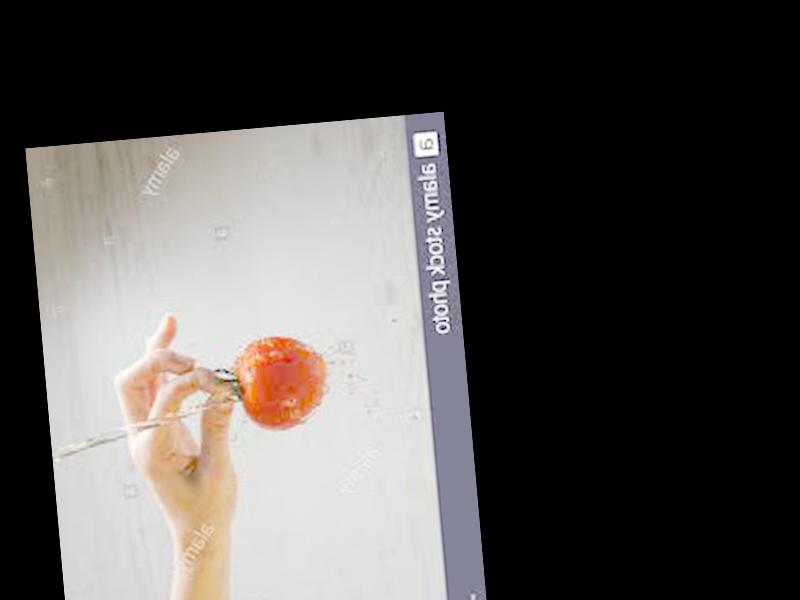Tomato: (233, 334, 333, 436)
